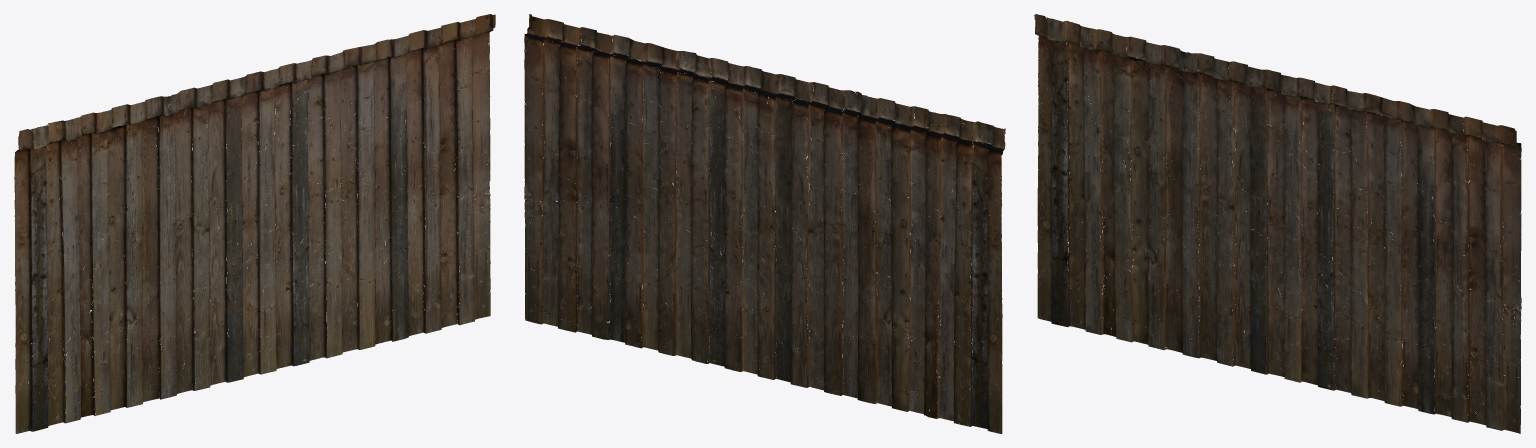
File: split_siding.glb
The picture shows the model from 3 angles, left to right: view 1: azimuth 30°, elevation 25°; view 2: azimuth 150°, elevation 25°; view 3: azimuth 330°, elevation 25°; orthographic projection.
Parts seen in each view (by area): view 1: split_siding; view 2: split_siding; view 3: split_siding.
Part boxes in pixels (x1,y1,x2,y2): split_siding: (14, 14, 495, 433); split_siding: (524, 14, 1005, 433); split_siding: (1034, 14, 1521, 433).
Bounding box in the file's own units: 4.68 × 2.85 × 0.148.
1 material, 1 textured.
